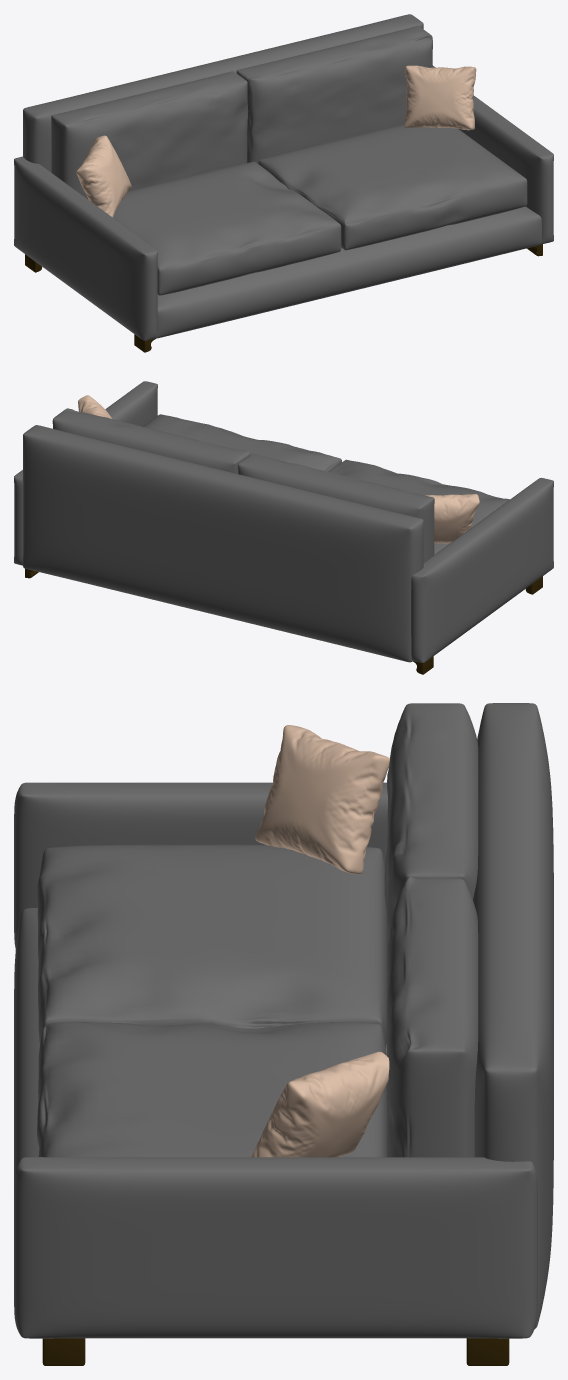
The model's file is SILLON-tesis-WU.fbx.
3 renders of one model, top to bottom at view 1: azimuth 30°, elevation 25°; view 2: azimuth 150°, elevation 25°; view 3: azimuth 270°, elevation 25°, orthographic. The views are drawn at different scales.
Parts seen in each view (by area): view 1: Cube.011, Cube.009, Cube.010, Cube.013, Cube.007, Cube.012, Cube.008, Cube.016, Cube.015, Cube.014; view 2: Cube.008, Cube.009, Cube.012, Cube.013, Cube.011, Cube.010, Cube.015, Cube.014, Cube.016; view 3: Cube.009, Cube.010, Cube.011, Cube.008, Cube.013, Cube.012, Cube.015, Cube.016, Cube.007, Cube.014.
Boxes of the visible parts, <box> form: Cube.011: <box>258,124,527,250</box>; Cube.009: <box>14,65,553,340</box>; Cube.010: <box>113,161,341,295</box>; Cube.013: <box>236,26,432,163</box>; Cube.007: <box>157,206,541,338</box>; Cube.012: <box>51,71,248,199</box>; Cube.008: <box>23,14,423,172</box>; Cube.016: <box>404,65,476,130</box>; Cube.015: <box>76,135,131,217</box>; Cube.014: <box>25,244,542,352</box>; Cube.008: <box>23,425,423,662</box>; Cube.009: <box>14,381,553,662</box>; Cube.012: <box>238,453,434,562</box>; Cube.013: <box>52,408,249,473</box>; Cube.011: <box>143,414,341,471</box>; Cube.010: <box>329,459,509,554</box>; Cube.015: <box>425,494,479,543</box>; Cube.014: <box>25,568,542,674</box>; Cube.016: <box>78,395,112,418</box>; Cube.009: <box>14,782,537,1338</box>; Cube.010: <box>37,844,387,1046</box>; Cube.011: <box>37,1022,387,1157</box>; Cube.008: <box>473,703,553,1328</box>; Cube.013: <box>386,876,478,1157</box>; Cube.012: <box>384,703,478,970</box>; Cube.015: <box>255,725,389,874</box>; Cube.016: <box>252,1051,389,1157</box>; Cube.007: <box>14,908,387,1188</box>; Cube.014: <box>42,1338,509,1365</box>.
Size of the model in its own units: 258 by 92.47 by 149.
